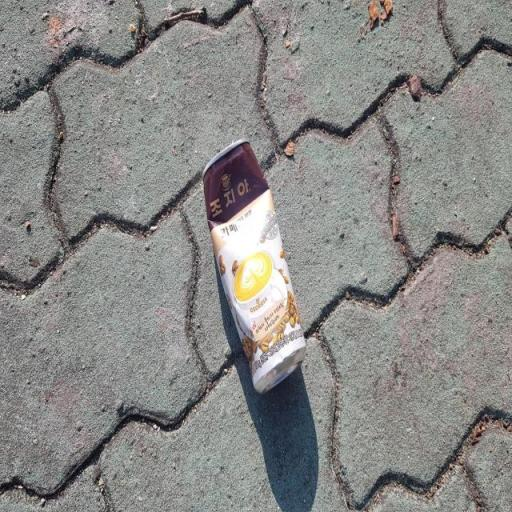metal: (192, 108, 322, 418)
